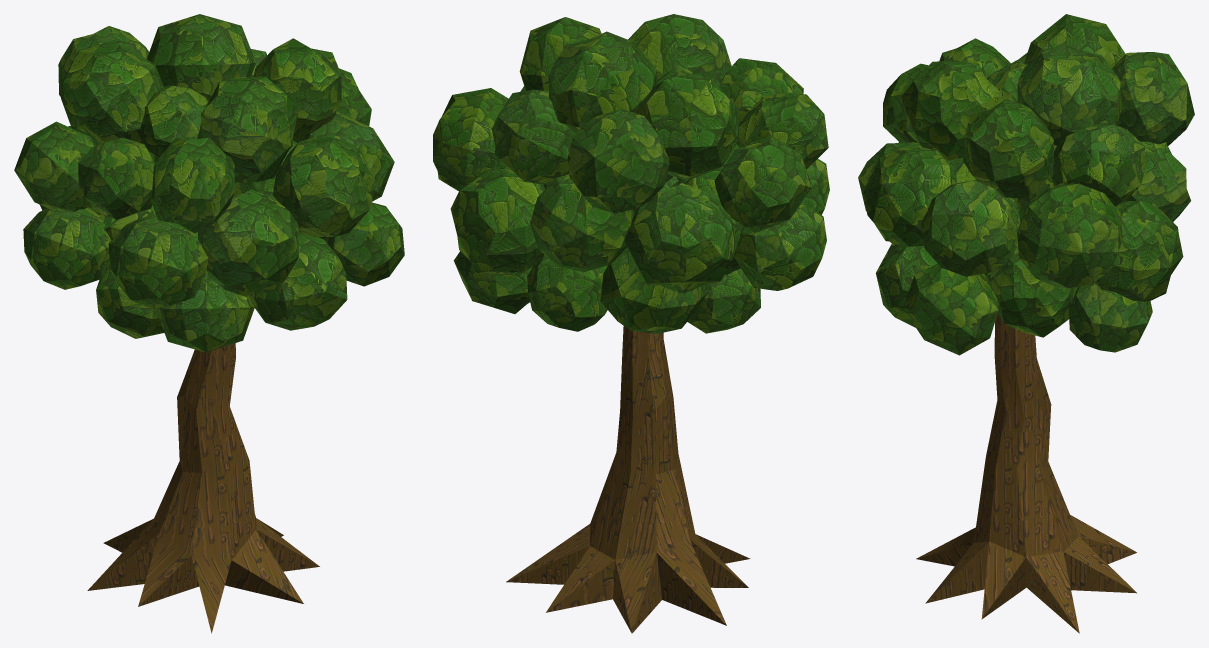
Rendered from StylisedTree3.fbx.
The picture shows the model from 3 angles, left to right: view 1: azimuth 30°, elevation 25°; view 2: azimuth 150°, elevation 25°; view 3: azimuth 270°, elevation 25°; orthographic projection. The views are drawn at different scales.
Visible parts, largest first — view 1: Tree3; view 2: Tree3; view 3: Tree3.
Boxes of the visible parts, x1=… form: Tree3: x1=14, y1=14, x2=404, y2=633; Tree3: x1=433, y1=14, x2=829, y2=633; Tree3: x1=858, y1=14, x2=1194, y2=633.
Bounding box in the file's own units: 4.25 × 6.28 × 3.57.
